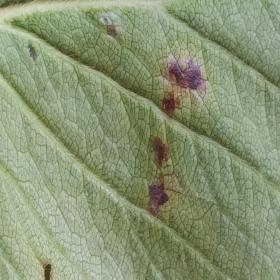Angular Leafspot: (19, 10, 213, 219)
